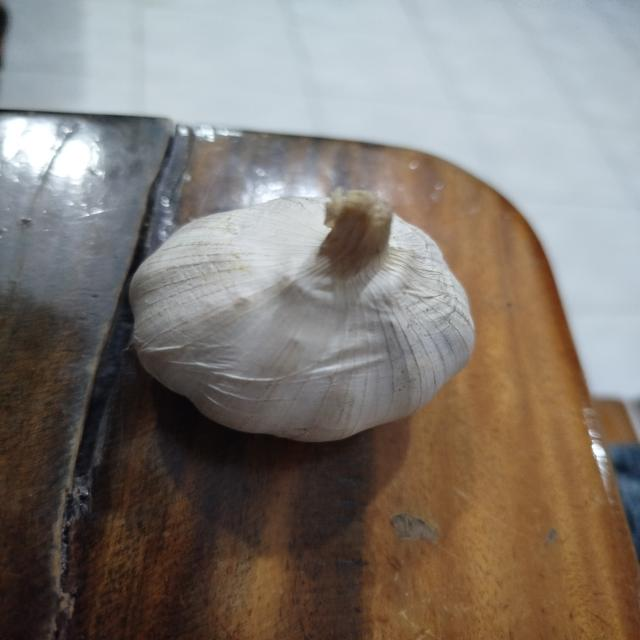garlic: (128, 187, 476, 443)
